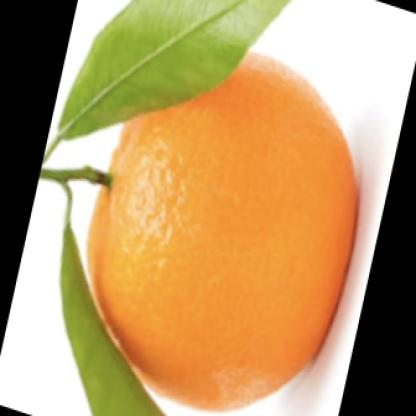fresh: (85, 48, 359, 414)
